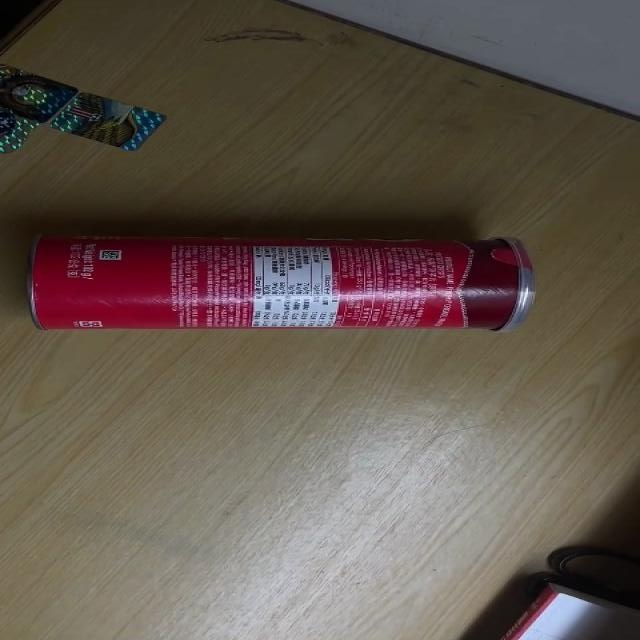Pringles: (27, 235, 534, 332)
